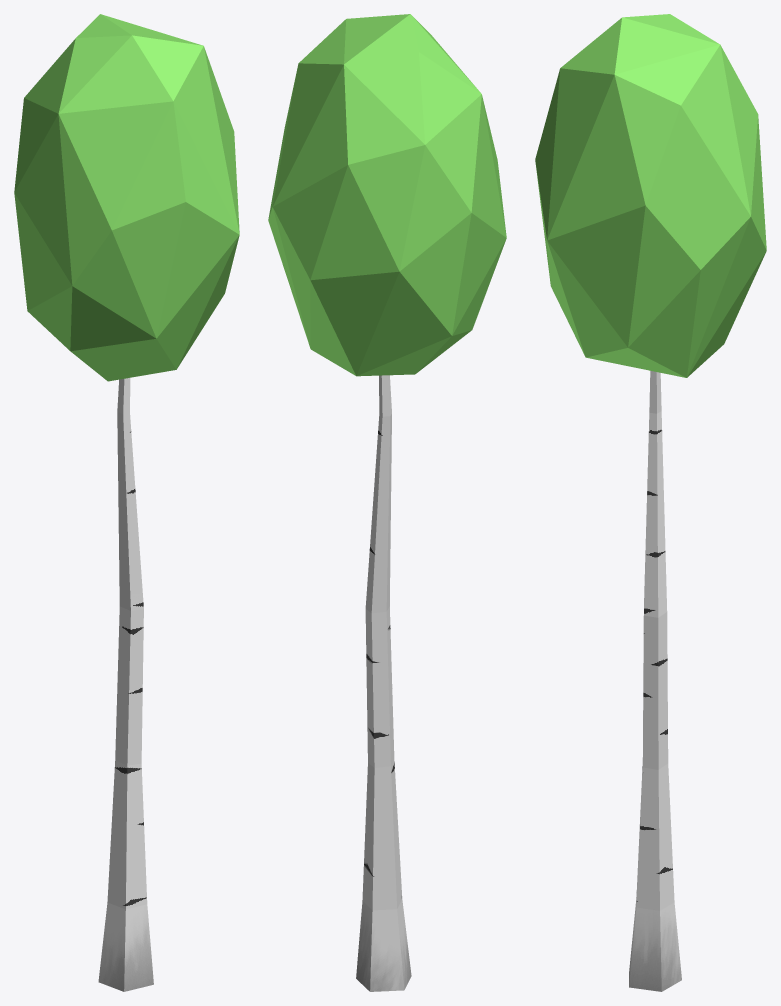
File: Birch_Tree_m_03.glb
The picture shows the model from 3 angles, left to right: view 1: azimuth 30°, elevation 25°; view 2: azimuth 150°, elevation 25°; view 3: azimuth 270°, elevation 25°; orthographic projection.
Visible parts, largest first — view 1: Birch_Tree_m_03; view 2: Birch_Tree_m_03; view 3: Birch_Tree_m_03.
Part boxes in pixels (<box>): Birch_Tree_m_03: <box>14,14,239,991</box>; Birch_Tree_m_03: <box>268,14,506,991</box>; Birch_Tree_m_03: <box>535,14,766,991</box>.
Size of the model in its own units: 1.41 by 6.32 by 1.39.
Materials: 1 (1 with a texture image).
